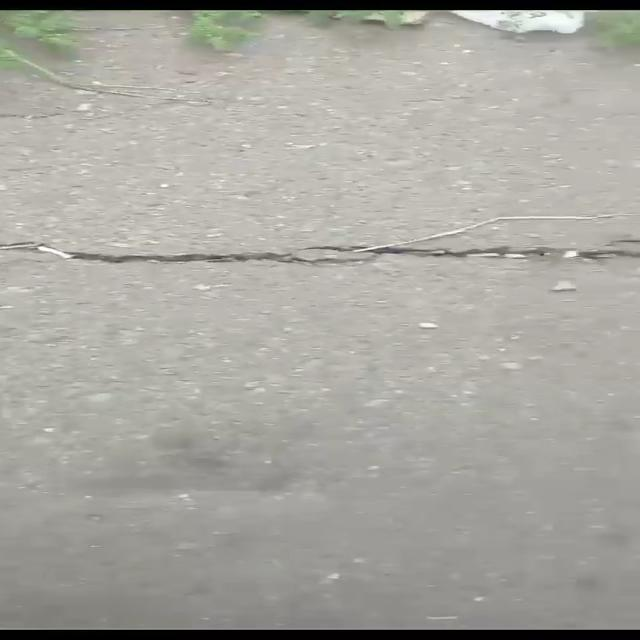Melintang: (0, 227, 640, 285)
